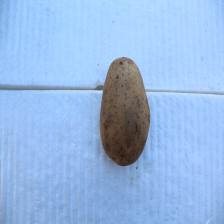Diseased-fungal potato: (99, 56, 151, 168)
